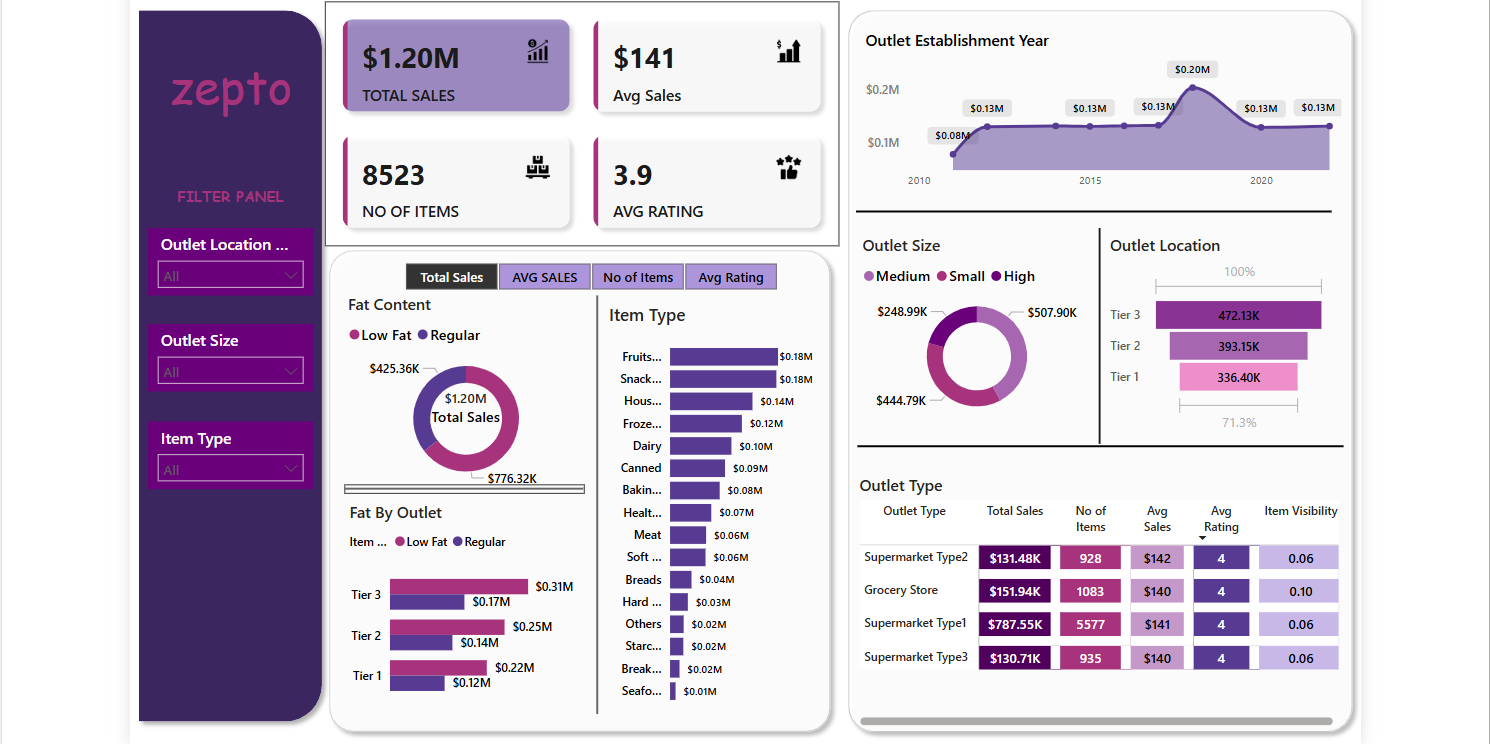

The dashboard page shown, as its layout file describes it:
{"tool":"powerbi","page":{"name":"Page 1","canvas":[1252,812],"ordinal":0},"visuals":[{"type":"shape","box":[0,56.4,204.3,740.9],"z":0},{"type":"textbox","box":[18.3,102.1,167.7,77.7],"z":1000},{"type":"cardVisual","fields":{"Data":["BlinkIT Grocery Data.Total Sales","BlinkIT Grocery Data.AVG SALES","BlinkIT Grocery Data.No of Items","BlinkIT Grocery Data.Avg Rating"]},"box":[198.2,56.4,522.9,248.5],"z":2000},{"type":"shape","box":[193.6,300.3,527.5,507.6],"z":3000},{"type":"donutChart","title":"Fat Content","fields":{"Y":["BlinkIT Grocery Data.Total Sales"],"Category":["BlinkIT Grocery Data.Item Fat Content"]},"box":[216.5,352.1,250,204.3],"z":4000},{"type":"slicer","fields":{"Values":["Metrics.Metrics"]},"box":[254.6,315.6,426.8,35.1],"z":5000},{"type":"cardVisual","fields":{"Data":["BlinkIT Grocery Data.Total Sales"]},"box":[285.1,419.2,112.8,99.1],"z":6000},{"type":"clusteredBarChart","title":"Fat By Outlet","fields":{"Y":["BlinkIT Grocery Data.Total Sales"],"Category":["BlinkIT Grocery Data.Outlet Location Type"],"Series":["BlinkIT Grocery Data.Item Fat Content"]},"box":[218,564,237.8,216.5],"z":7000},{"type":"shape","box":[218,547.3,243.9,9.1],"z":8000},{"type":"shape","box":[468,355.2,13.7,425.3],"z":9000},{"type":"barChart","title":" Item Type","fields":{"Y":["BlinkIT Grocery Data.Total Sales"],"Category":["BlinkIT Grocery Data.Item Type"]},"box":[481.7,362.8,218,417.7],"z":10000},{"type":"shape","box":[721.1,56.4,530.5,751.5],"z":11000},{"type":"lineChart","title":" Outlet Establishment Year","fields":{"Y":["BlinkIT Grocery Data.Total Sales"],"Category":["BlinkIT Grocery Data.Outlet Establishment Year"]},"box":[742.4,83.8,493.9,170.7],"z":12000},{"type":"shape","box":[737.8,259.2,483.2,21.3],"z":13000},{"type":"donutChart","title":"Outlet Size","fields":{"Y":["BlinkIT Grocery Data.Total Sales"],"Category":["BlinkIT Grocery Data.Outlet Size"]},"box":[739.4,292.7,242.4,196.7],"z":14000},{"type":"shape","box":[981.7,286.6,7.6,219.5],"z":15000},{"type":"funnel","title":"Outlet Location","fields":{"Y":["Sum(BlinkIT Grocery Data.Sales)"],"Category":["BlinkIT Grocery Data.Outlet Location Type"]},"box":[990.9,292.7,230.2,205.8],"z":16000},{"type":"shape","box":[739.4,498.5,493.9,19.8],"z":17000},{"type":"pivotTable","title":"Outlet Type","fields":{"Values":["BlinkIT Grocery Data.Total Sales","BlinkIT Grocery Data.No of Items","BlinkIT Grocery Data.AVG SALES","BlinkIT Grocery Data.Avg Rating","Avg(BlinkIT Grocery Data.Item Visibility)"],"Rows":["BlinkIT Grocery Data.Outlet Type"]},"box":[736.3,536.6,497,260.7],"z":18000},{"type":"slicer","fields":{"Values":["BlinkIT Grocery Data.Outlet Location Type"]},"box":[18.3,286.6,167.7,68.6],"z":19000},{"type":"slicer","fields":{"Values":["BlinkIT Grocery Data.Outlet Size"]},"box":[18.3,384.2,167.7,68.6],"z":20000},{"type":"slicer","fields":{"Values":["BlinkIT Grocery Data.Item Type"]},"box":[18.3,483.2,167.7,68.6],"z":21000},{"type":"textbox","box":[36.6,239.3,131.1,30.5],"z":22000}]}

Visuals, with their boxes on the page's 1252x812 design canvas (x1, y1, x2, y2). These are canvas units, not pixel positions in the 1490x744 screenshot, which may show the page scaled, cropped or inside an application window:
shape: BBox(0, 56, 204, 797)
textbox: BBox(18, 102, 186, 180)
cardVisual - BlinkIT Grocery Data.Total Sales x BlinkIT Grocery Data.AVG SALES: BBox(198, 56, 721, 305)
shape: BBox(194, 300, 721, 808)
"Fat Content" donutChart: BBox(216, 352, 466, 556)
slicer - Metrics.Metrics: BBox(255, 316, 681, 351)
cardVisual - BlinkIT Grocery Data.Total Sales: BBox(285, 419, 398, 518)
"Fat By Outlet" clusteredBarChart: BBox(218, 564, 456, 780)
shape: BBox(218, 547, 462, 556)
shape: BBox(468, 355, 482, 780)
" Item Type" barChart: BBox(482, 363, 700, 780)
shape: BBox(721, 56, 1252, 808)
" Outlet Establishment Year" lineChart: BBox(742, 84, 1236, 254)
shape: BBox(738, 259, 1221, 280)
"Outlet Size" donutChart: BBox(739, 293, 982, 489)
shape: BBox(982, 287, 989, 506)
"Outlet Location" funnel: BBox(991, 293, 1221, 498)
shape: BBox(739, 498, 1233, 518)
"Outlet Type" pivotTable: BBox(736, 537, 1233, 797)
slicer - BlinkIT Grocery Data.Outlet Location Type: BBox(18, 287, 186, 355)
slicer - BlinkIT Grocery Data.Outlet Size: BBox(18, 384, 186, 453)
slicer - BlinkIT Grocery Data.Item Type: BBox(18, 483, 186, 552)
textbox: BBox(37, 239, 168, 270)
